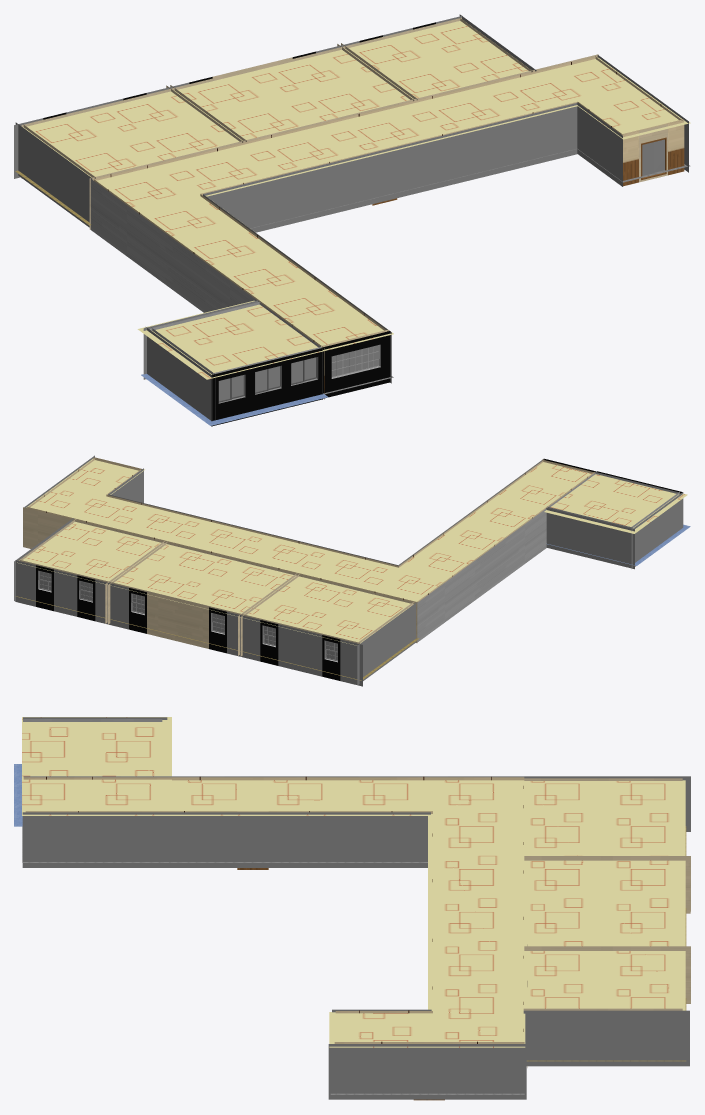
Rendered from planimetria ufficio giornalistico.FBX.
3 renders of one model, top to bottom at view 1: azimuth 30°, elevation 25°; view 2: azimuth 150°, elevation 25°; view 3: azimuth 270°, elevation 25°, orthographic. The views are drawn at different scales.
Visible parts, largest first — view 1: soffitto, Planimetria, pavimento, finestra ufficio012; view 2: soffitto, Planimetria, pavimento; view 3: soffitto, Planimetria, pavimento.
Boxes of the visible parts, <box> form: soffitto: <box>23,21,690,379</box>; Planimetria: <box>14,14,688,426</box>; pavimento: <box>15,148,690,425</box>; finestra ufficio012: <box>331,345,379,377</box>; soffitto: <box>17,458,687,645</box>; Planimetria: <box>14,455,683,686</box>; pavimento: <box>15,524,690,680</box>; soffitto: <box>22,717,685,1047</box>; Planimetria: <box>22,717,690,1100</box>; pavimento: <box>14,764,686,1094</box>.
Bounding box in the file's own units: 42.08 × 3.49 × 36.38.
